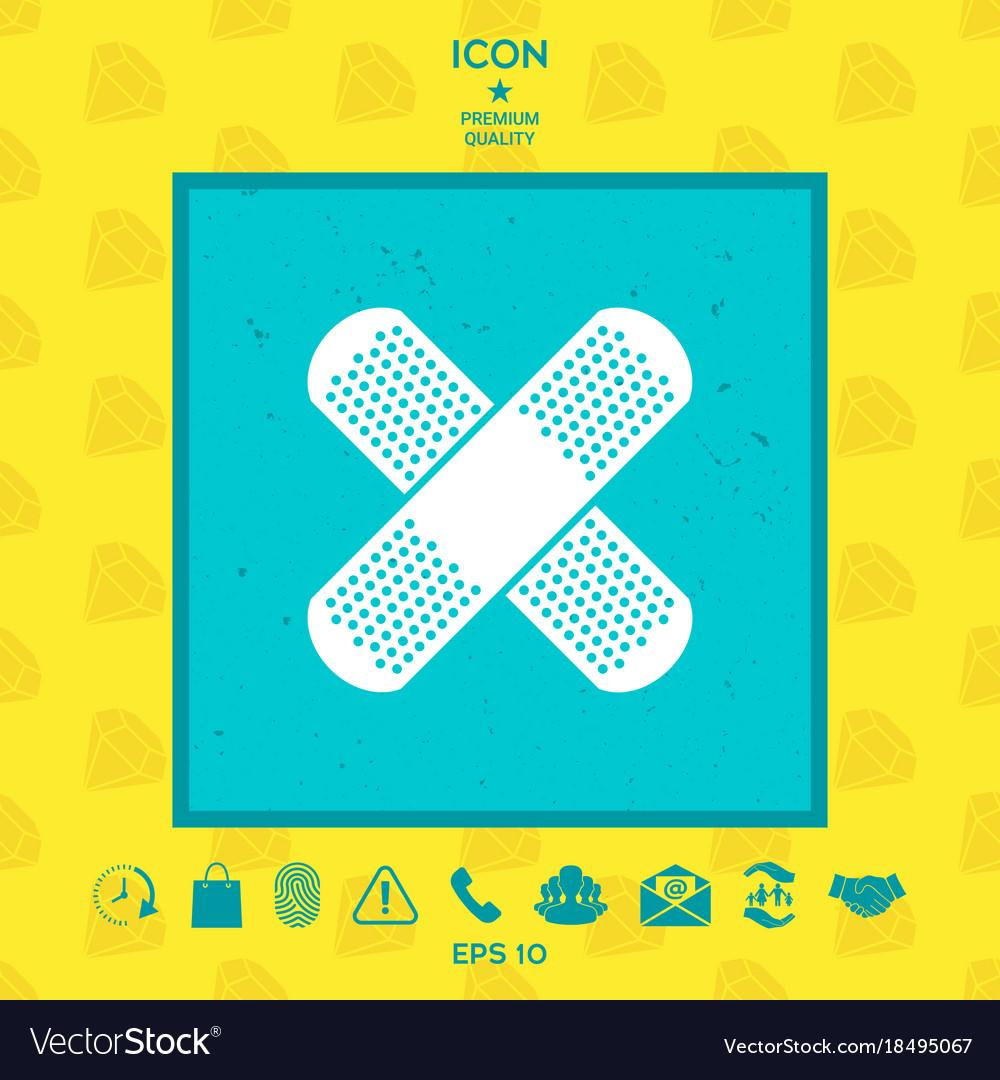bandage: (304, 306, 695, 700)
